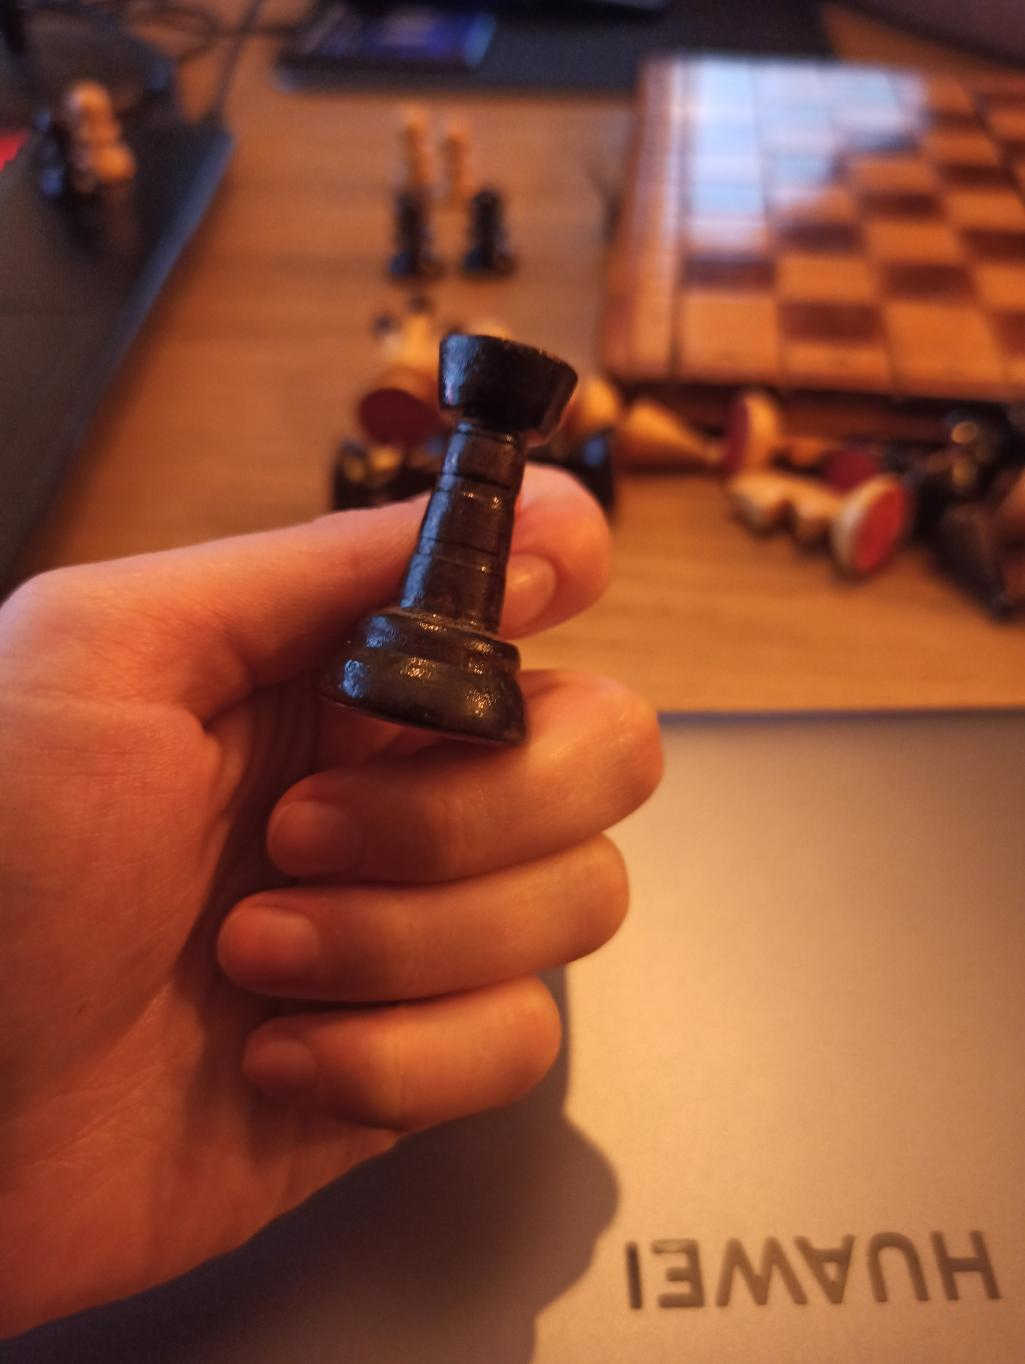brook: (315, 331, 581, 742)
